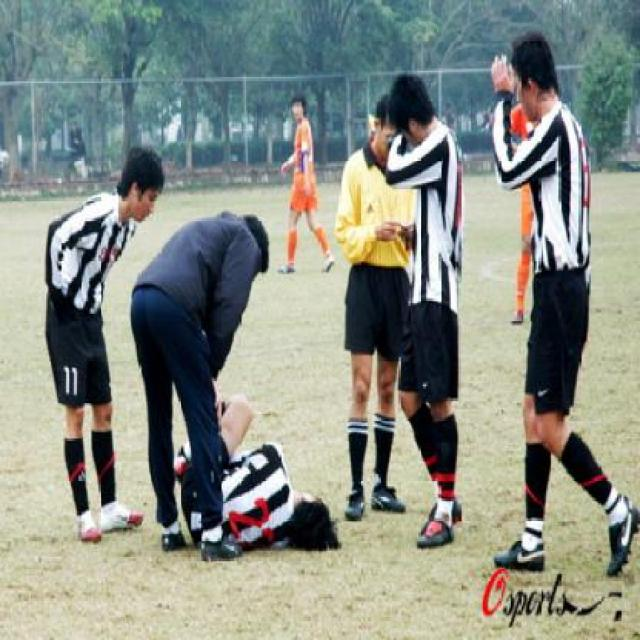fall: (162, 387, 342, 565)
